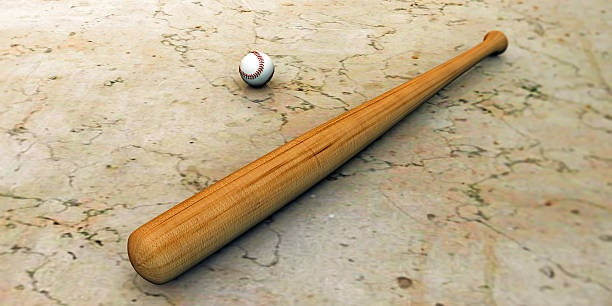bita: (128, 30, 502, 287)
